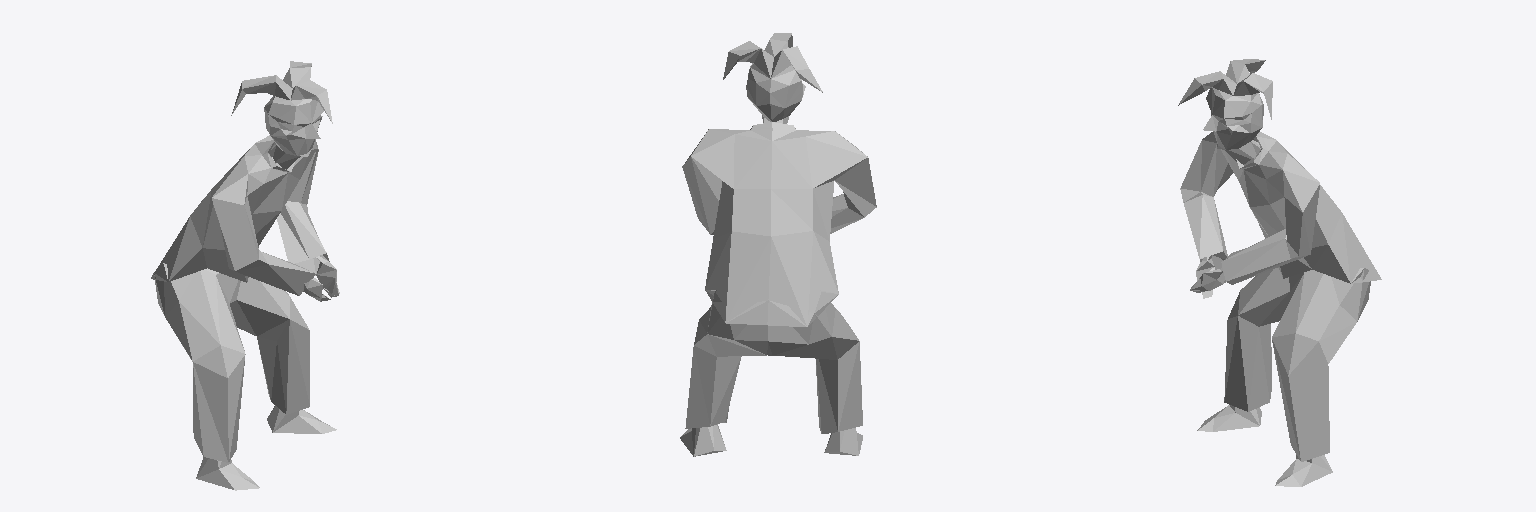
Rendered from tris.obj.
The picture shows the model from 3 angles: view 1: azimuth 30°, elevation 25°; view 2: azimuth 150°, elevation 25°; view 3: azimuth 270°, elevation 25°; orthographic projection.
Bounding box in the file's own units: 20.54 × 47.76 × 22.92.